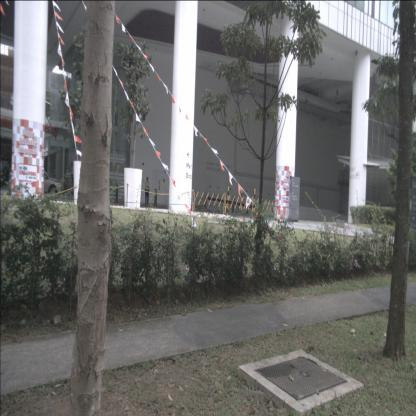human-pedestrian-adult: (145, 177, 149, 205)
vehicle-car: (18, 169, 63, 198)
